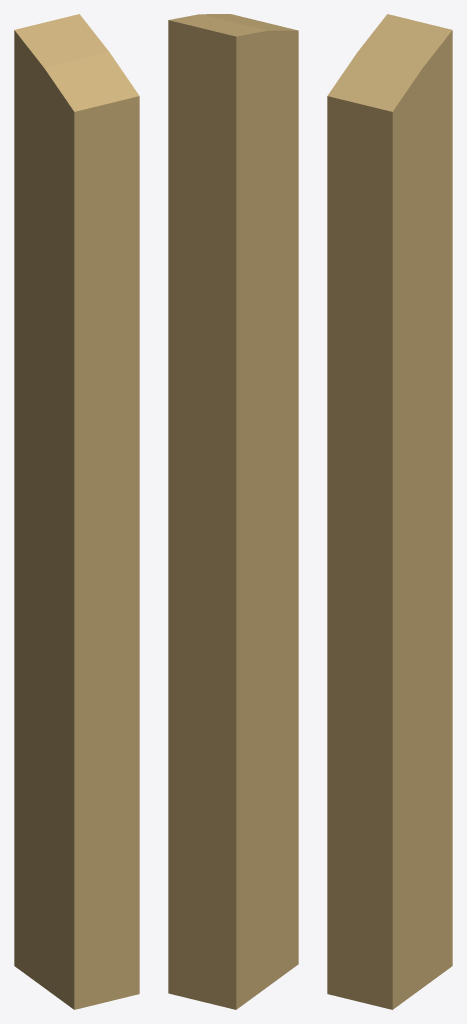
3 views of the same model, side by side, from view 1: azimuth 30°, elevation 25°; view 2: azimuth 150°, elevation 25°; view 3: azimuth 330°, elevation 25° (orthographic). The views are drawn at different scales.
Parts seen in each view (by area): view 1: L1-3-S7-322-M04; view 2: L1-3-S7-322-M04; view 3: L1-3-S7-322-M04.
Boxes of the visible parts, <box> form: L1-3-S7-322-M04: <box>14,14,139,1009</box>; L1-3-S7-322-M04: <box>168,14,298,1009</box>; L1-3-S7-322-M04: <box>327,14,452,1009</box>.
Bounding box in the file's own units: 0.045 × 0.6169 × 0.0717.
